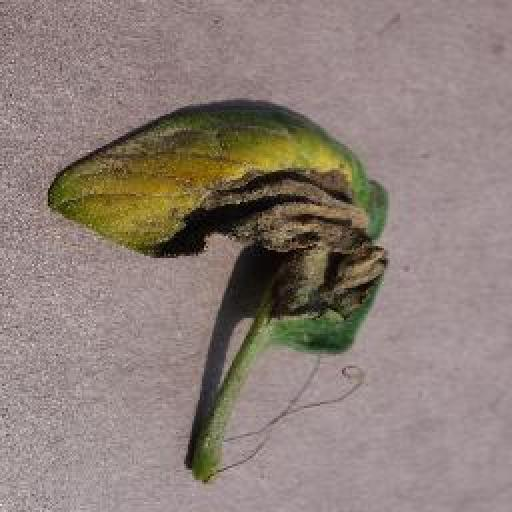disease_tomato: (52, 104, 392, 355)
